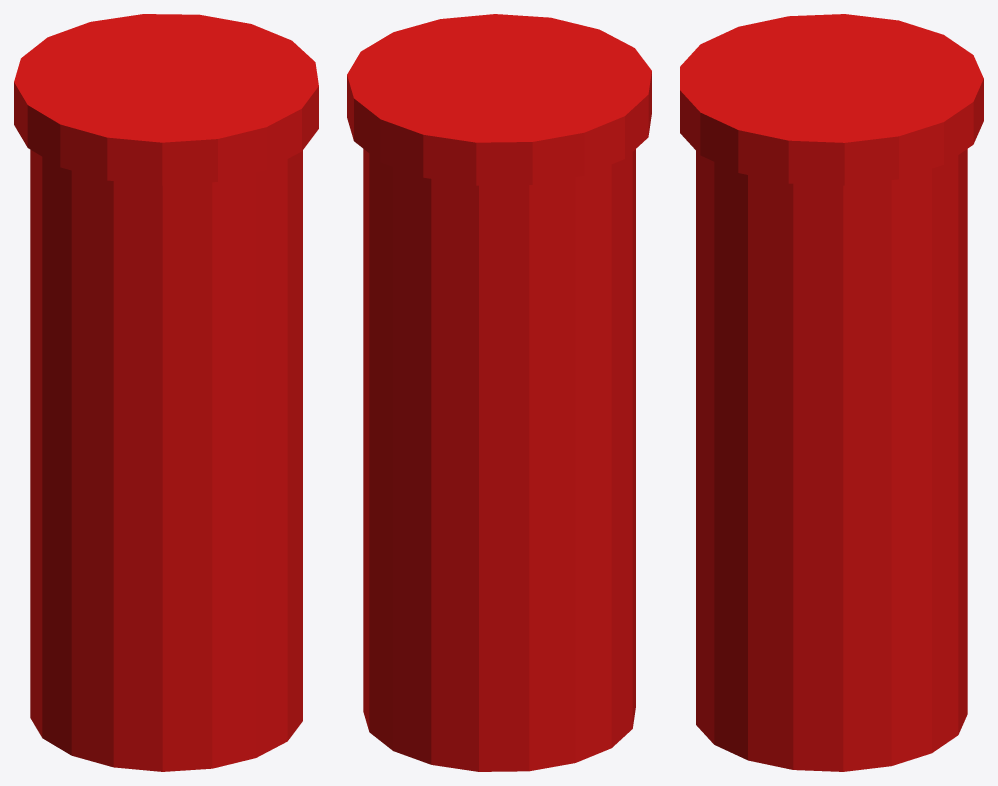
Rendered from chips.fbx.
3 views of the same model, side by side, from view 1: azimuth 30°, elevation 25°; view 2: azimuth 150°, elevation 25°; view 3: azimuth 270°, elevation 25° (orthographic).
Visible parts, largest first — view 1: Chips; view 2: Chips; view 3: Chips.
Part boxes in pixels (x1,y1,x2,y2): Chips: (14,14,318,771); Chips: (347,14,651,771); Chips: (680,14,983,771).
Size of the model in its own units: 223 by 512 by 222.
